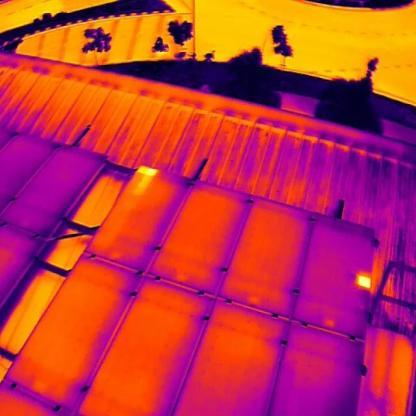anomaly: (132, 163, 160, 196), (353, 271, 373, 292)
